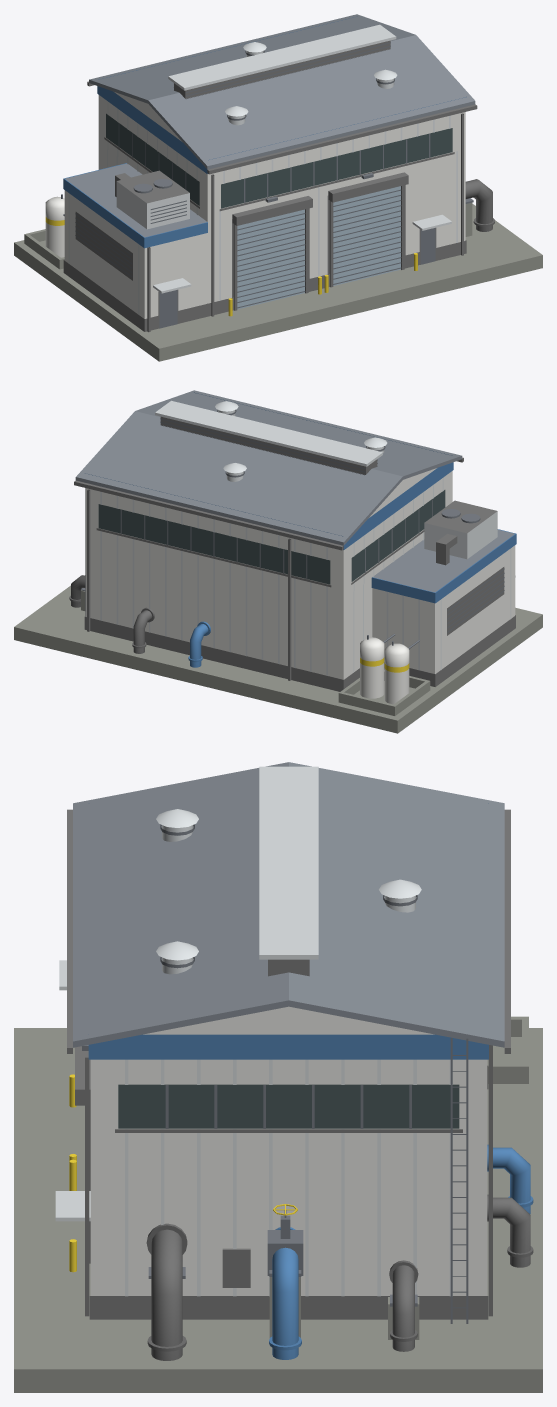
Rendered from mashup-main-top-prebuilt_close.fbx.
3 renders of one model, top to bottom at view 1: azimuth 30°, elevation 25°; view 2: azimuth 150°, elevation 25°; view 3: azimuth 270°, elevation 25°, orthographic. The views are drawn at different scales.
Visible parts, largest first — view 1: a1074/0/mashup-main-top-prebuilt_close; view 2: a1074/0/mashup-main-top-prebuilt_close; view 3: a1074/0/mashup-main-top-prebuilt_close.
Boxes of the visible parts, x1,y1,x2,y2 form: a1074/0/mashup-main-top-prebuilt_close: [14, 14, 542, 361]; a1074/0/mashup-main-top-prebuilt_close: [14, 390, 542, 733]; a1074/0/mashup-main-top-prebuilt_close: [14, 762, 542, 1392].
Size of the model in its own units: 23.2 by 11.65 by 15.2.
